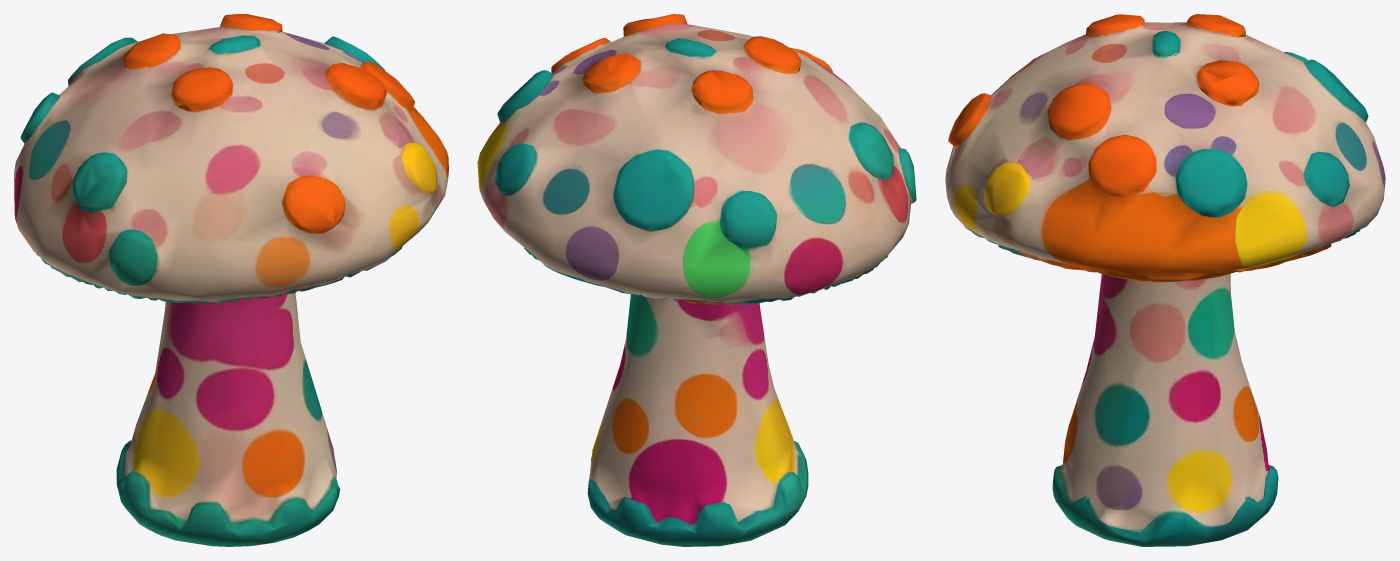
File: clay-mushroom.glb
3 views of the same model, side by side, from view 1: azimuth 30°, elevation 25°; view 2: azimuth 150°, elevation 25°; view 3: azimuth 270°, elevation 25° (orthographic).
Bounding box in the file's own units: 1.64 × 1.91 × 1.62.
1 material, 1 textured.
